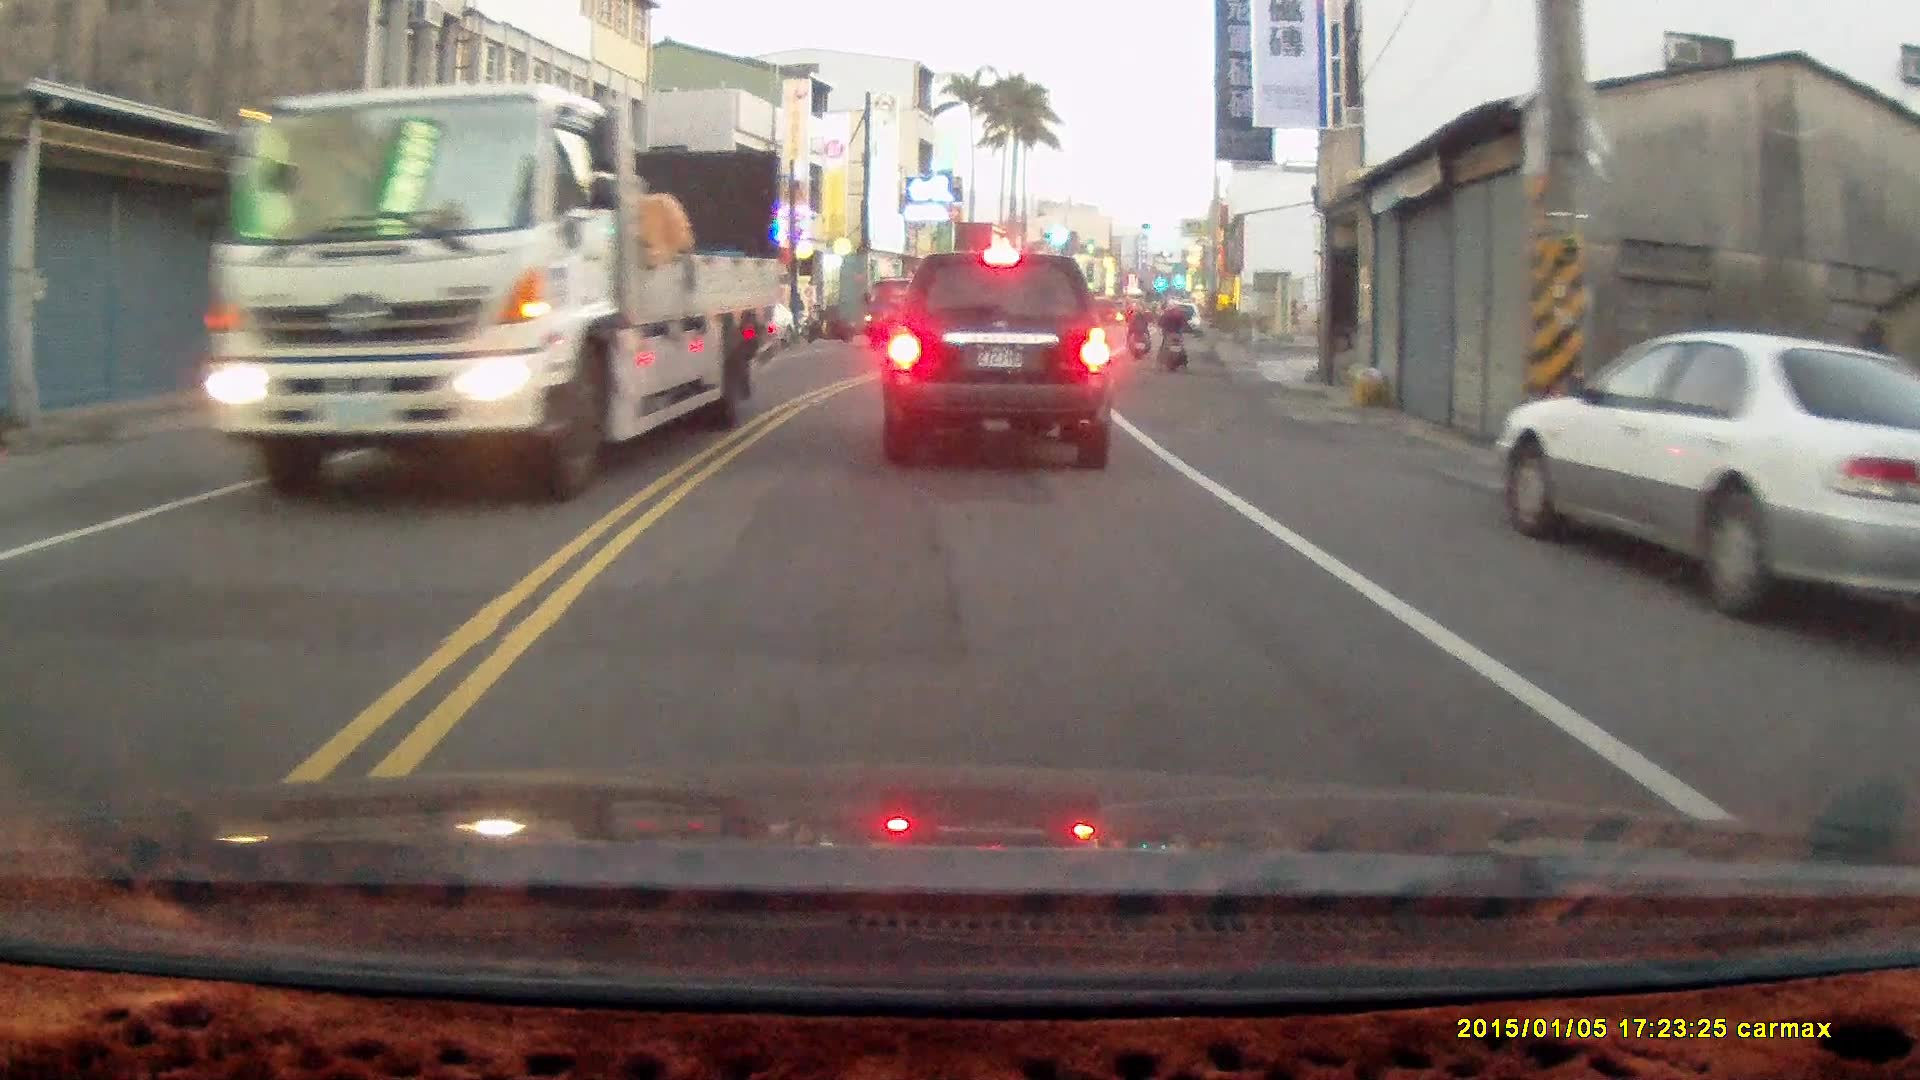rider: (1156, 295, 1186, 372), (1125, 301, 1151, 361)
vehicle: (210, 76, 791, 507), (1498, 327, 1920, 627), (879, 246, 1118, 468), (718, 291, 797, 348)
